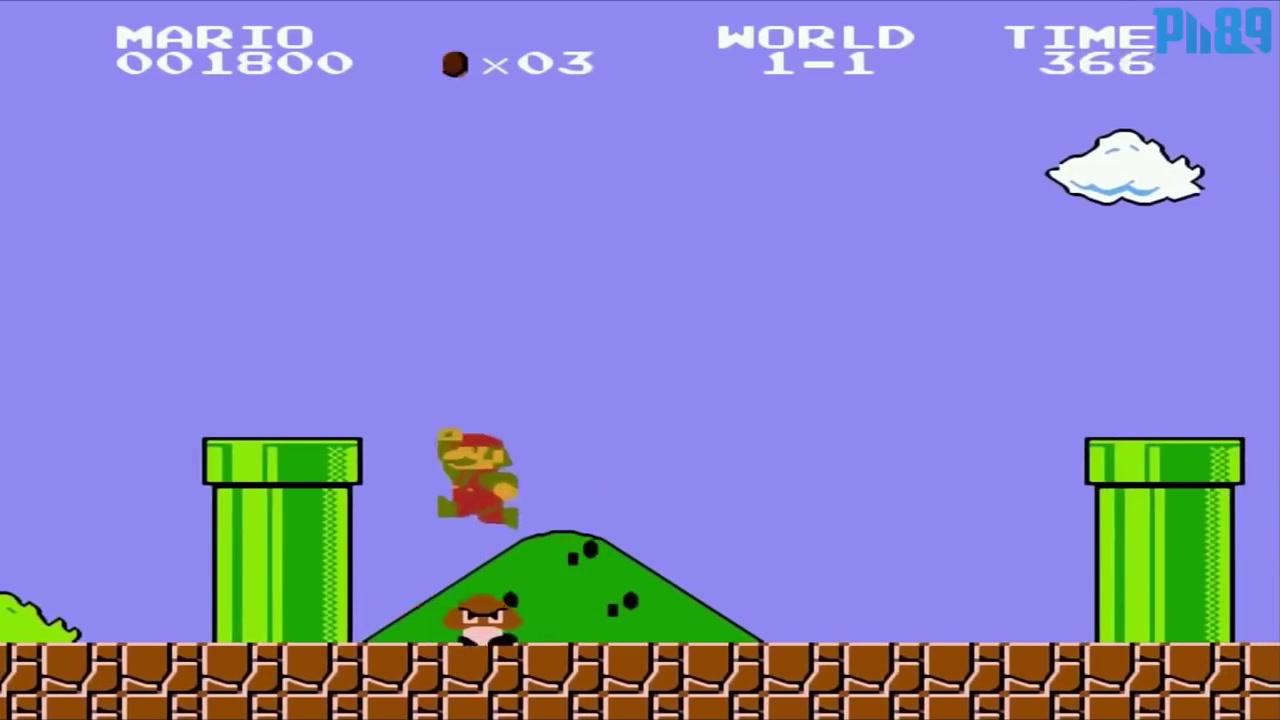mario: (431, 424, 532, 537)
